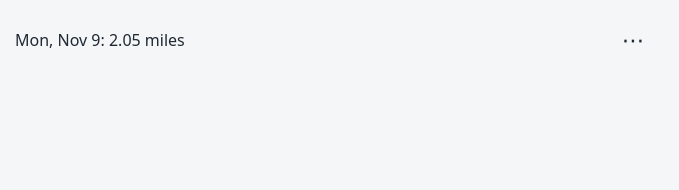
Scenario: RunList › keeps the run when you choose Keep
Click the button named "Actions for Mon, Nov 9 run": {"x": 633, "y": 40} [611, 18, 655, 62]
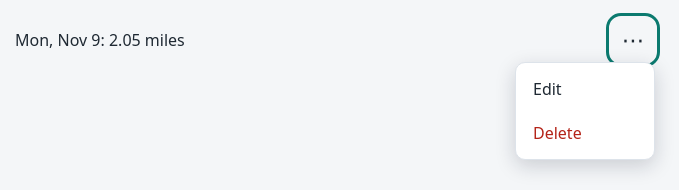
Click the menu item with aria-label "Delete Mon, Nov 9 run": {"x": 585, "y": 133} [520, 111, 650, 155]
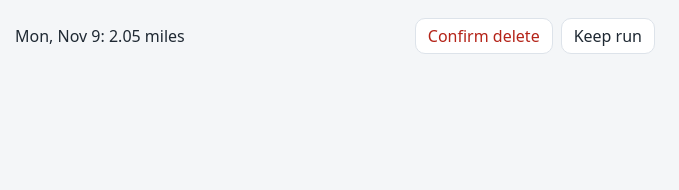
Click the button "Keep run": {"x": 608, "y": 36} [561, 18, 655, 54]
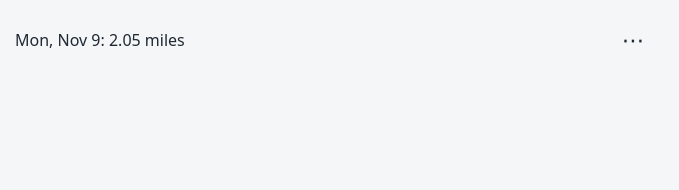
expect the button named "Actions for Mon, Nov 9 run" is shown: met, box [611, 18, 655, 62]
